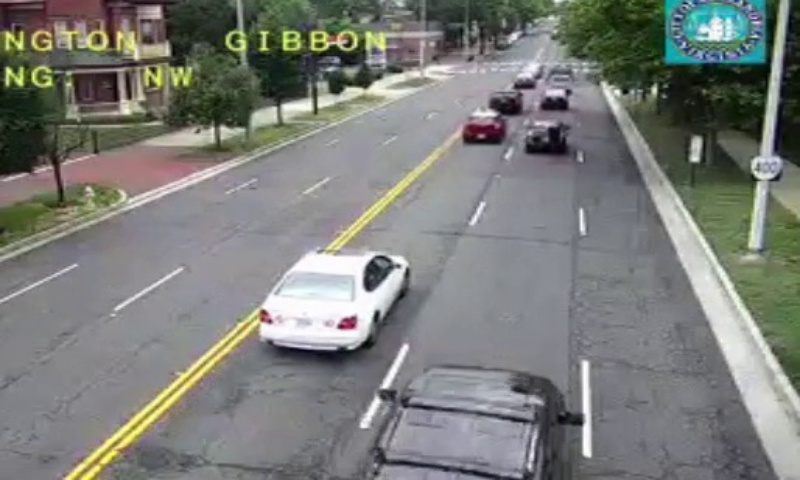car: (367, 364, 564, 480), (259, 252, 409, 351), (462, 112, 502, 144), (524, 122, 566, 152), (488, 89, 524, 115), (540, 89, 569, 111)
